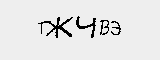В: (99, 17, 110, 39)
Ж: (44, 17, 74, 39)
Т: (35, 21, 48, 35)
Ч: (73, 15, 98, 40)
Э: (110, 19, 125, 39)
